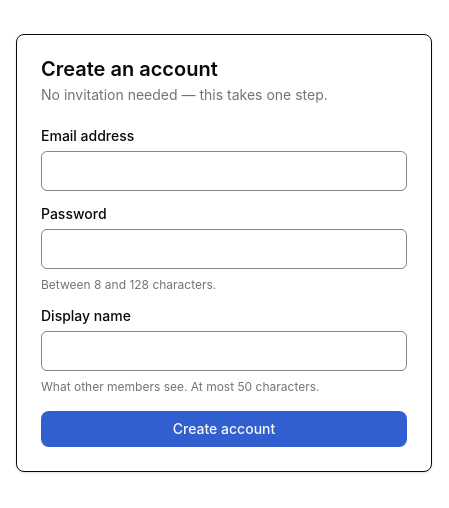
Scenario: when a submitted value is not usable › shows the password refusal and keeps everything typed
Type "someone@example.test" into the field labelled "Email address" at (224, 171), box [41,151,407,191]
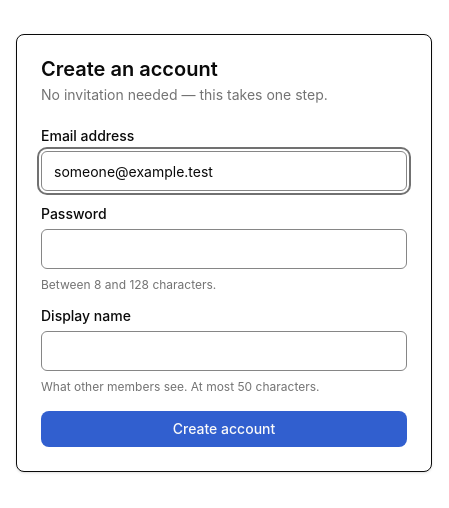
Type "a-long-enough-password" into the password field labelled "Password" at (224, 249), box [41,229,407,269]
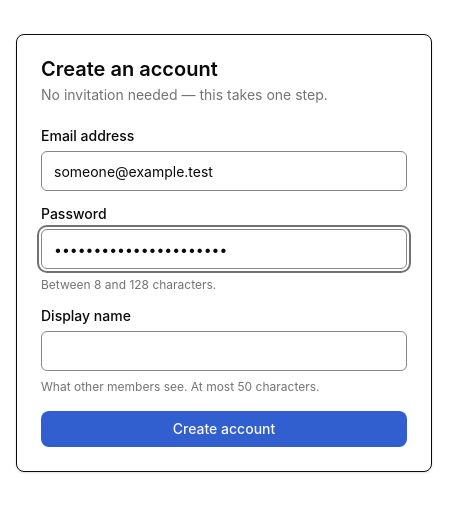
Type "Someone Real" into the field labelled "Display name" at (224, 351), box [41,331,407,371]
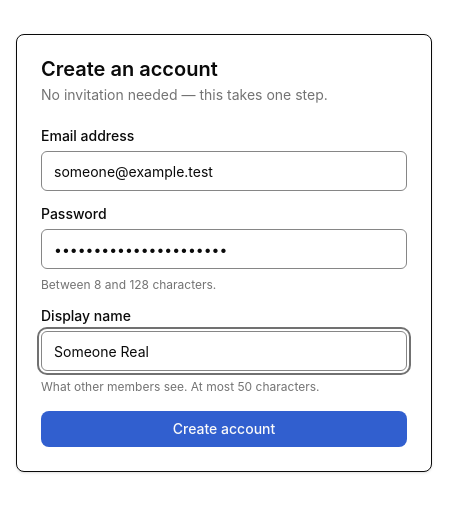
Click the button "Create account" at (224, 429), box [41,411,407,447]
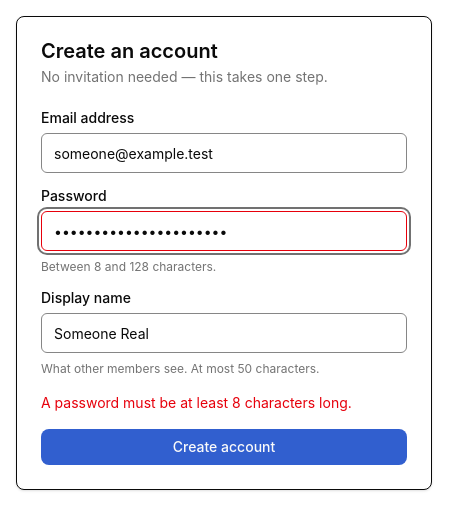
Check: the message reads "A password must be at least 8 characters long.", box [41,394,352,411]
